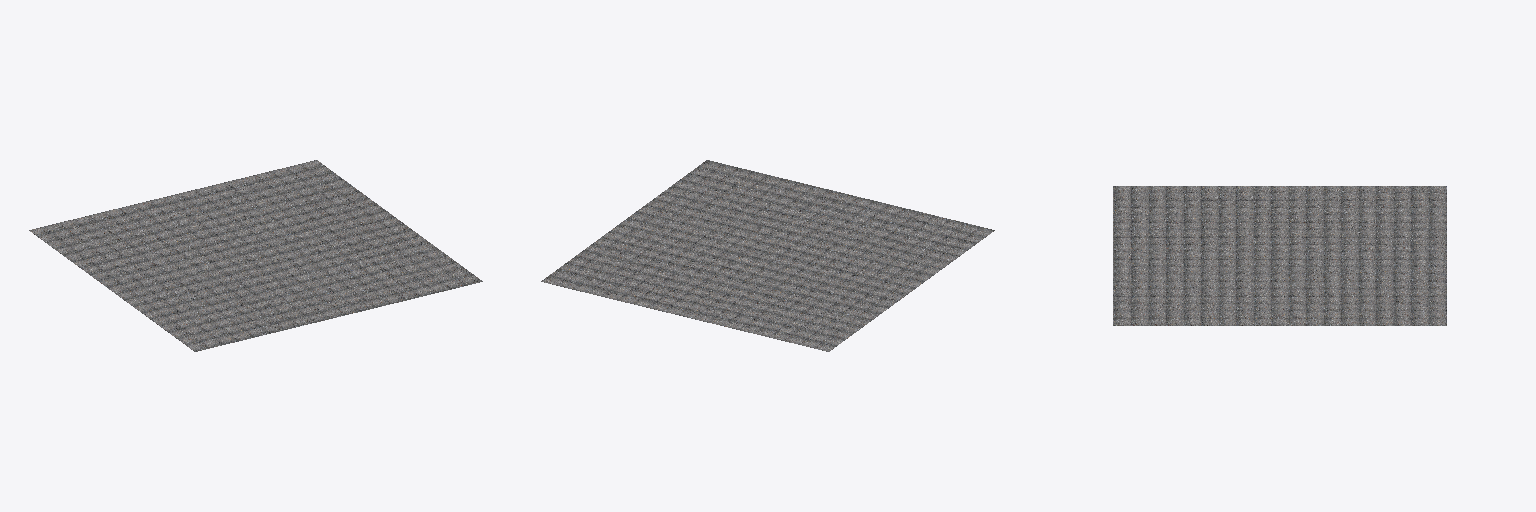
3 views of the same model, side by side, from view 1: azimuth 30°, elevation 25°; view 2: azimuth 150°, elevation 25°; view 3: azimuth 270°, elevation 25° (orthographic).
Visible parts, largest first — view 1: Plane; view 2: Plane; view 3: Plane.
Boxes of the visible parts, <box> form: Plane: <box>29,160,482,351</box>; Plane: <box>541,160,994,351</box>; Plane: <box>1113,186,1446,325</box>.
Size of the model in its own units: 200 by 0 by 200.
1 materials, 1 textured.